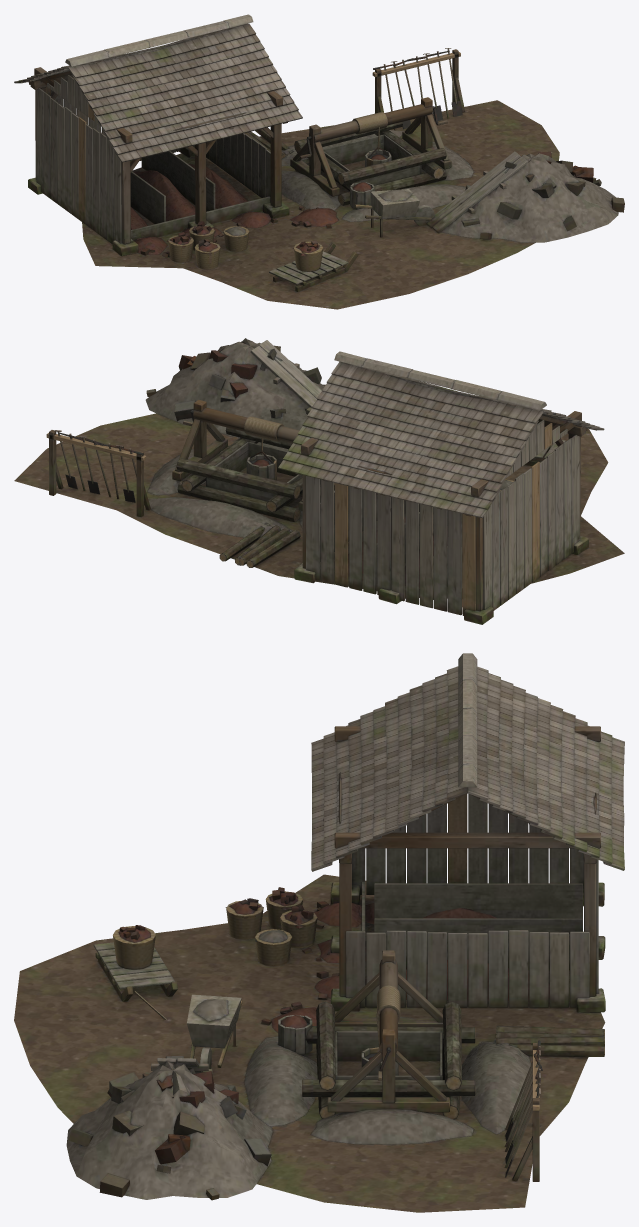
Rendered from mining_camp.glb.
3 renders of one model, top to bottom at view 1: azimuth 30°, elevation 25°; view 2: azimuth 150°, elevation 25°; view 3: azimuth 270°, elevation 25°, orthographic. The views are drawn at different scales.
Parts seen in each view (by area): view 1: mining_camp_LOD0; view 2: mining_camp_LOD0; view 3: mining_camp_LOD0.
Part boxes in pixels (x1,y1,x2,y2): mining_camp_LOD0: [14, 14, 624, 309]; mining_camp_LOD0: [14, 338, 624, 624]; mining_camp_LOD0: [14, 653, 624, 1212].
Size of what is drawn, in the model's own units: 11.13 by 3.65 by 8.5.
1 material, 1 textured.
